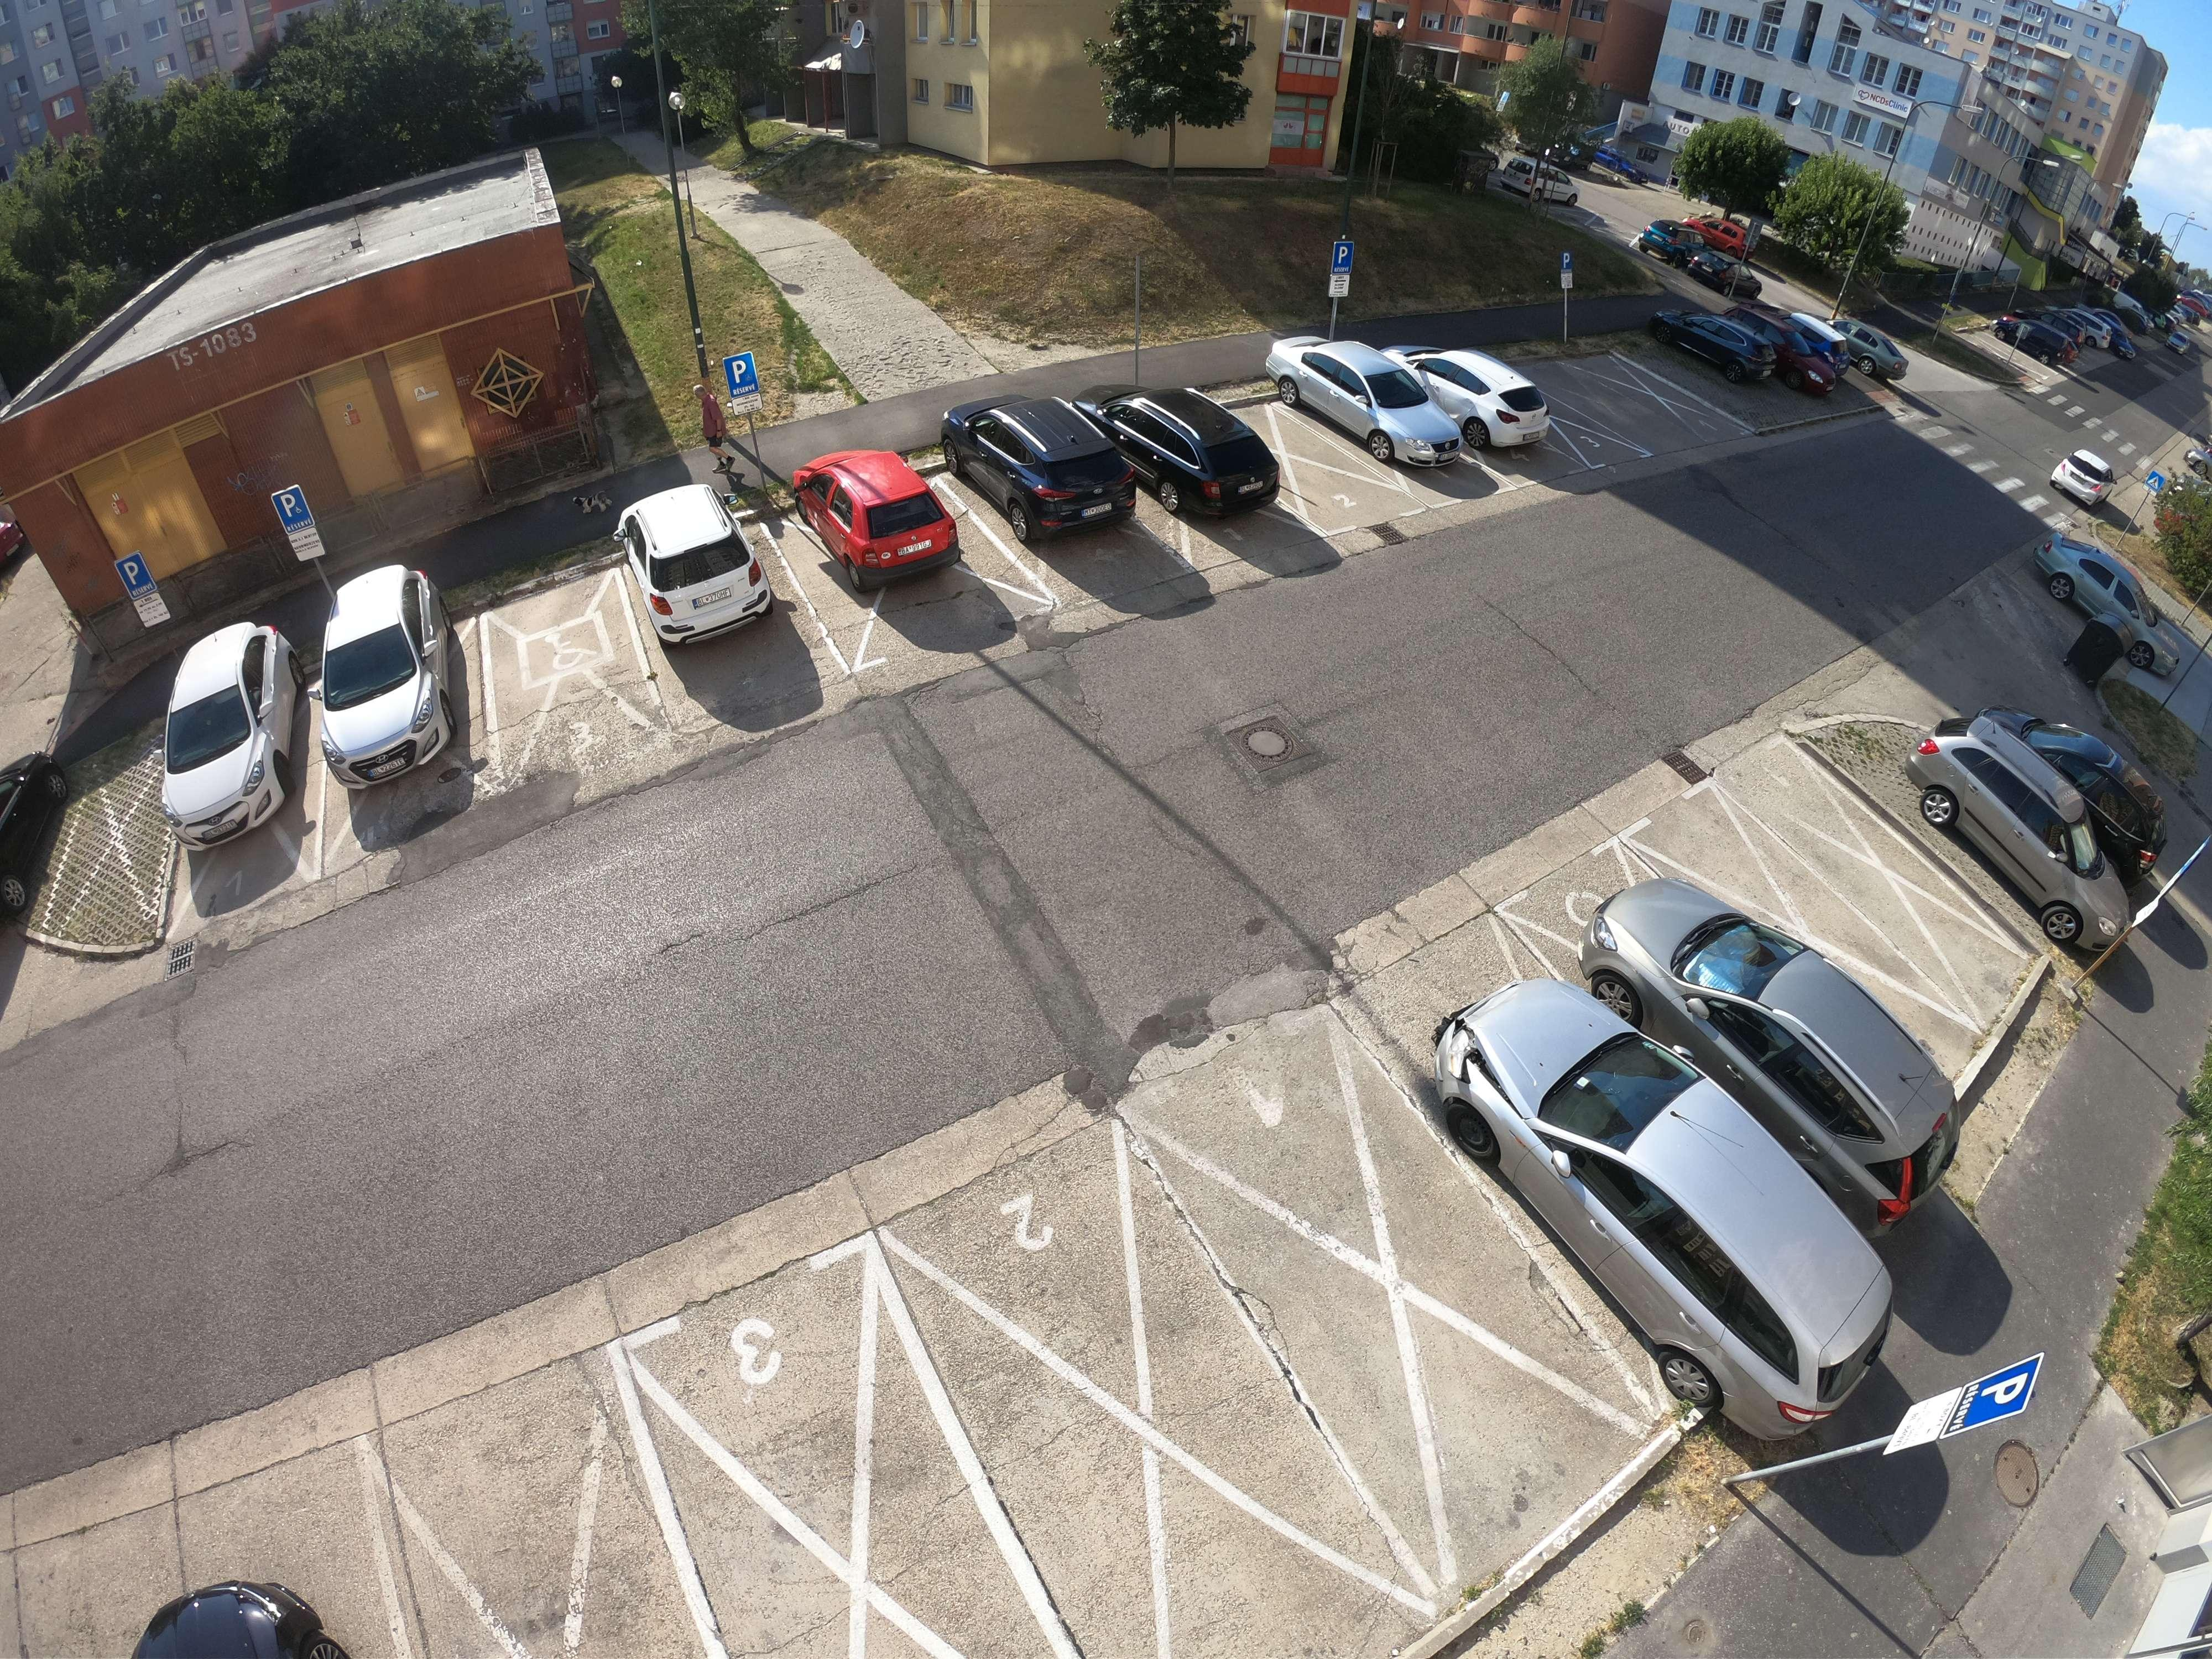empty: (1428, 971, 1878, 1405), (1648, 896, 1942, 1206), (1897, 708, 2121, 951), (286, 552, 469, 795), (129, 608, 314, 842), (604, 464, 779, 657), (91, 1556, 366, 1656), (944, 401, 1136, 542), (1094, 380, 1282, 511), (794, 441, 963, 582), (1289, 340, 1467, 471), (1425, 347, 1568, 458), (1648, 303, 1797, 385), (1757, 319, 1855, 394)
occupied: (986, 1328, 1214, 1546), (415, 1488, 672, 1659), (1264, 1194, 1472, 1389), (718, 1509, 951, 1659), (482, 615, 627, 767), (1244, 397, 1369, 519), (1806, 824, 1944, 920), (1595, 357, 1681, 418)
